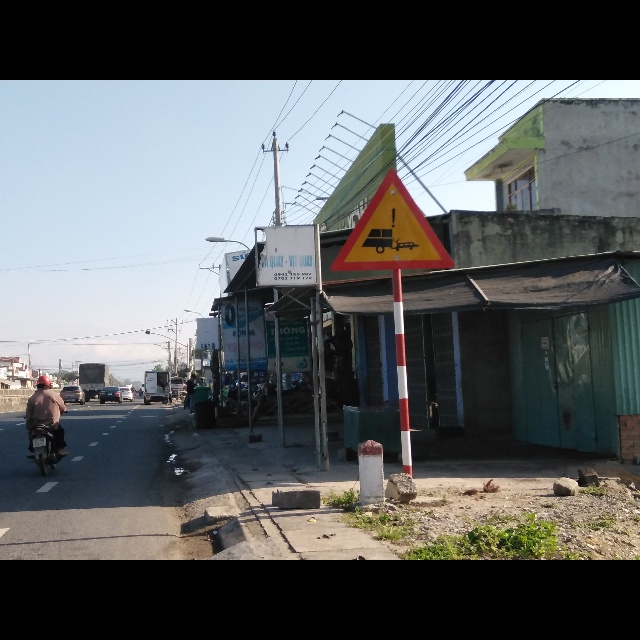Đoạn đường hay xảy ra tai nạn: (326, 169, 459, 273)
